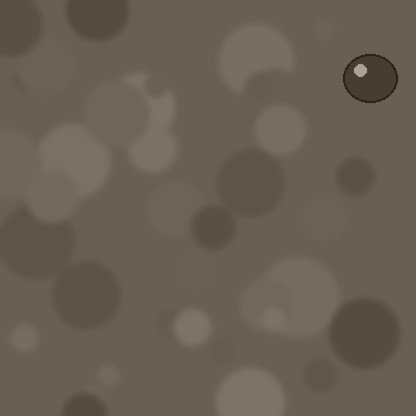gota: (343, 56, 397, 106)
